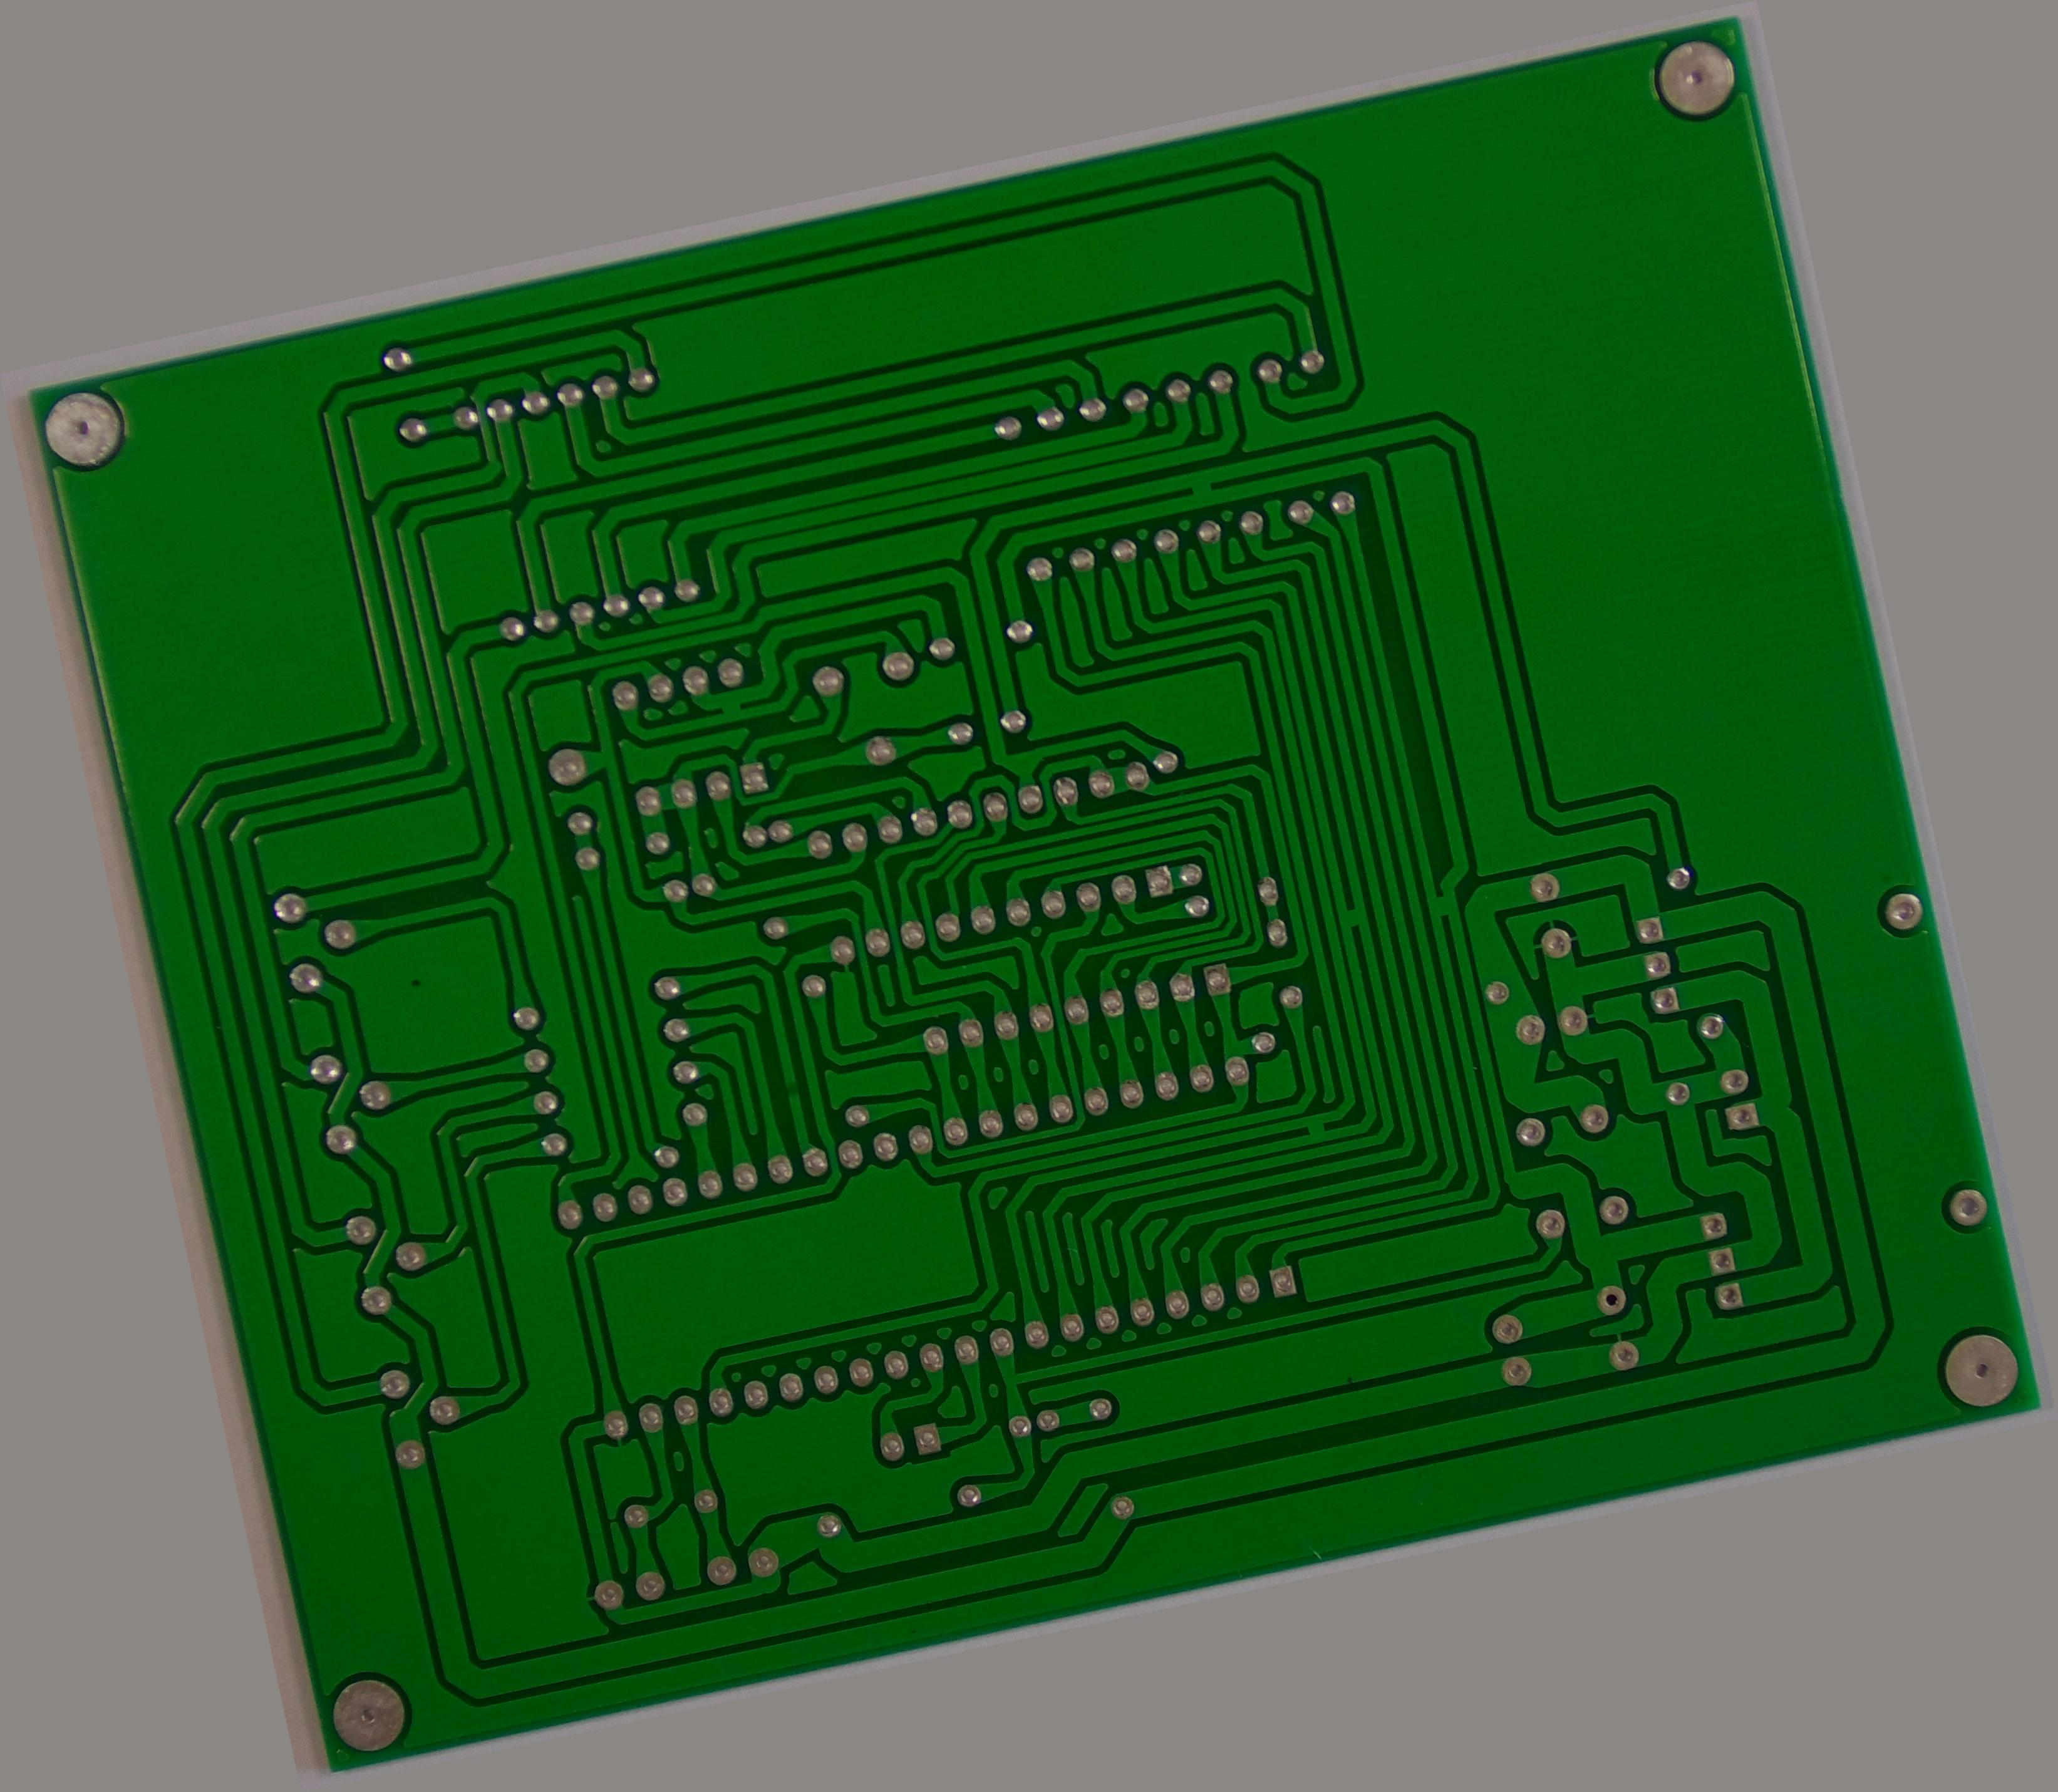short: (1171, 460, 1230, 516), (1288, 1106, 1344, 1153), (707, 682, 752, 731), (1328, 894, 1374, 940), (1421, 884, 1470, 926)
